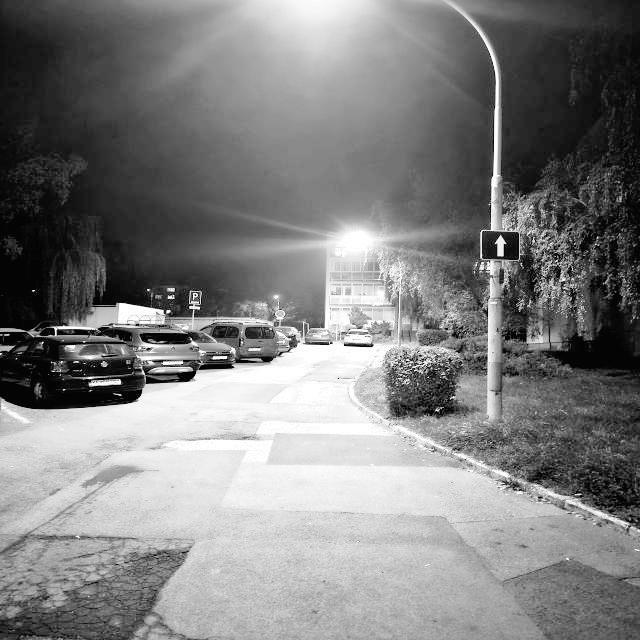Light: (343, 232, 414, 353)
